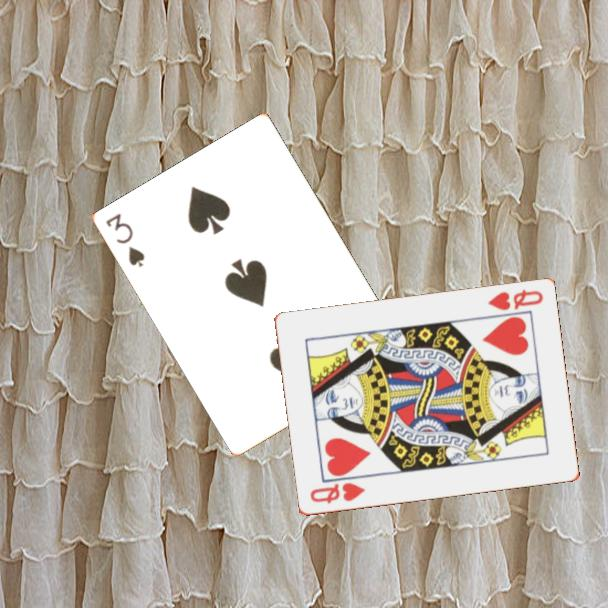h12: (306, 479, 368, 507), (484, 287, 546, 314)
s03: (103, 210, 148, 270)
